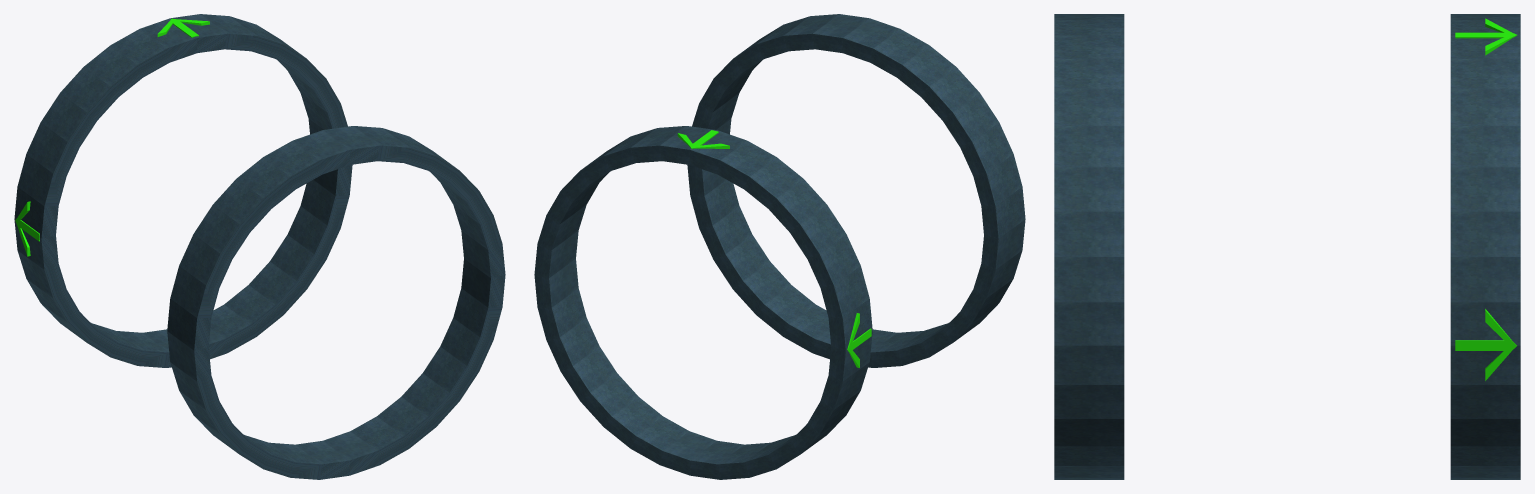
Rendered from Heavy Dark Energy Pipe.obj.
The picture shows the model from 3 angles, left to right: view 1: azimuth 30°, elevation 25°; view 2: azimuth 150°, elevation 25°; view 3: azimuth 270°, elevation 25°; orthographic projection. The views are drawn at different scales.
Parts seen in each view (by area): view 1: Cylinder.010; view 2: Cylinder.010; view 3: Cylinder.010.
Boxes of the visible parts, x1,y1,x2,y2 form: Cylinder.010: [14, 14, 505, 479]; Cylinder.010: [534, 14, 1025, 479]; Cylinder.010: [1054, 14, 1520, 479].
Bounding box in the file's own units: 1 × 1 × 1.
